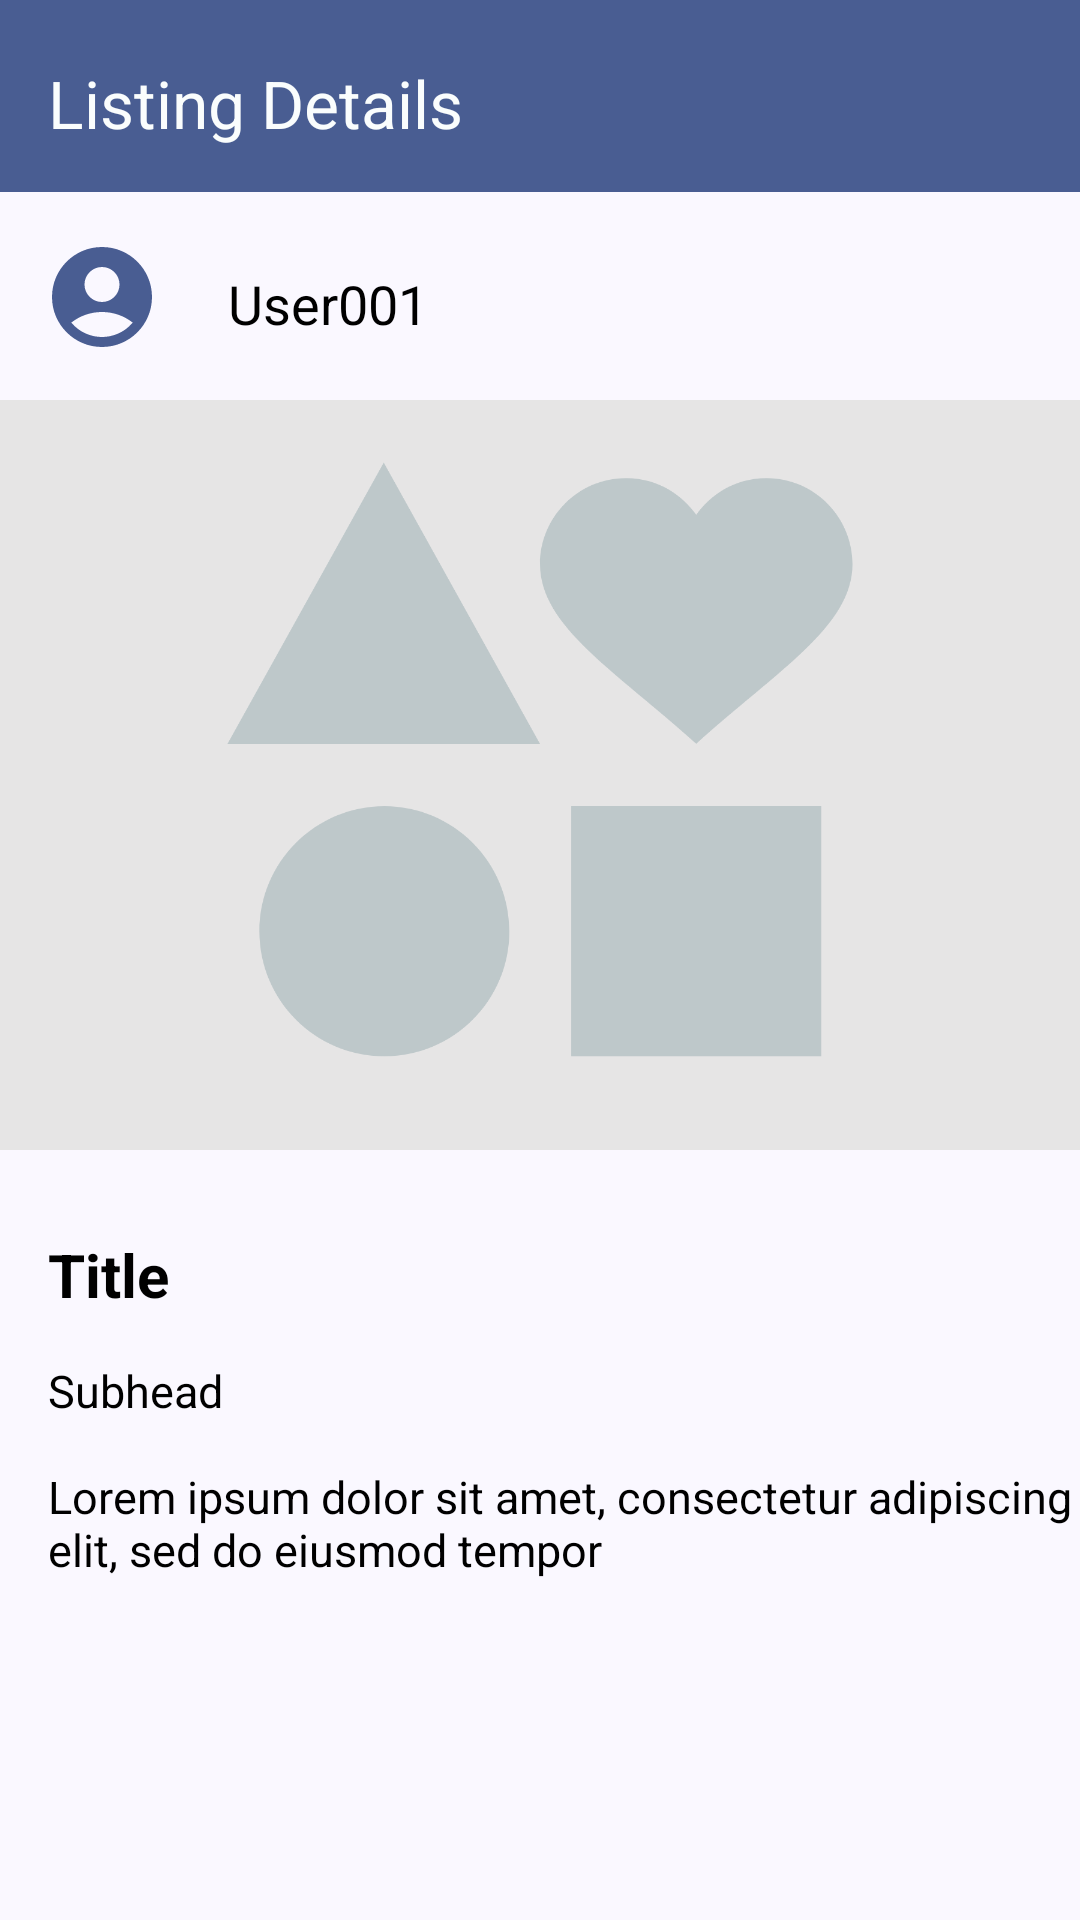

Icon bounding boxes for this 1080px x 1920px phone screenshot, format (x1, y1, x2, y2):
account: (52, 247, 152, 347)
